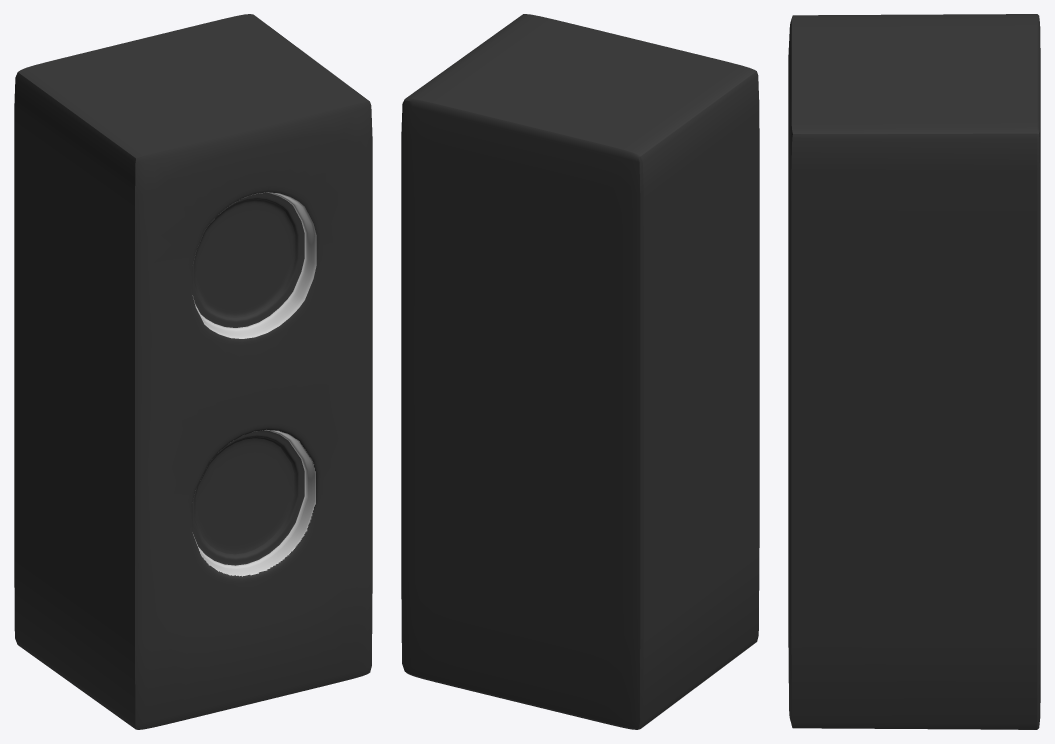
The model's file is Speaker.glb.
The picture shows the model from 3 angles, left to right: view 1: azimuth 30°, elevation 25°; view 2: azimuth 150°, elevation 25°; view 3: azimuth 270°, elevation 25°; orthographic projection. The views are drawn at different scales.
Parts seen in each view (by area): view 1: Speaker; view 2: Speaker; view 3: Speaker.
Part boxes in pixels (bbox=[...]): Speaker: bbox=[14, 14, 372, 729]; Speaker: bbox=[401, 14, 759, 729]; Speaker: bbox=[788, 14, 1040, 729].
Bounding box in the file's own units: 0.1008 × 0.2299 × 0.0874.
1 material, 1 textured.
